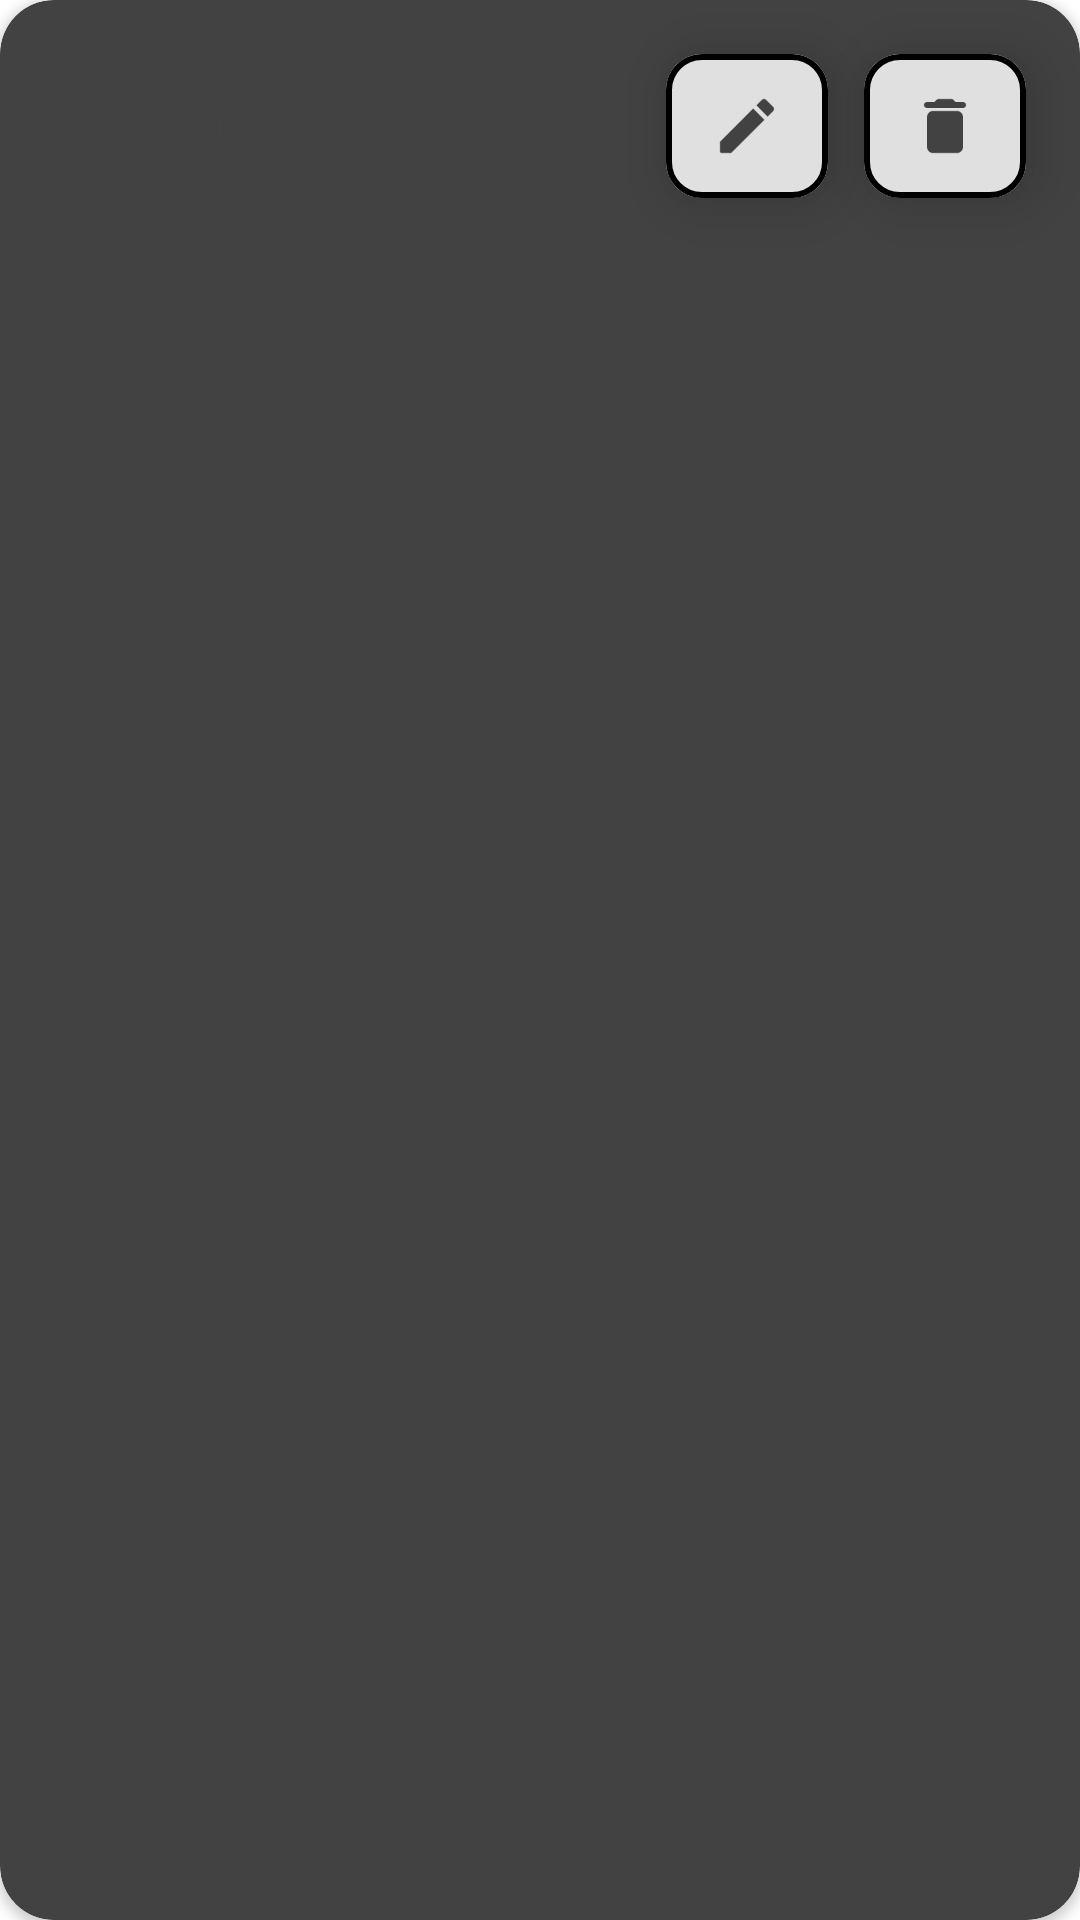

Icon click points for this 1080×1920 phone screenshot, format [x,y]:
delete: [945,126]
edit: [747,126]
